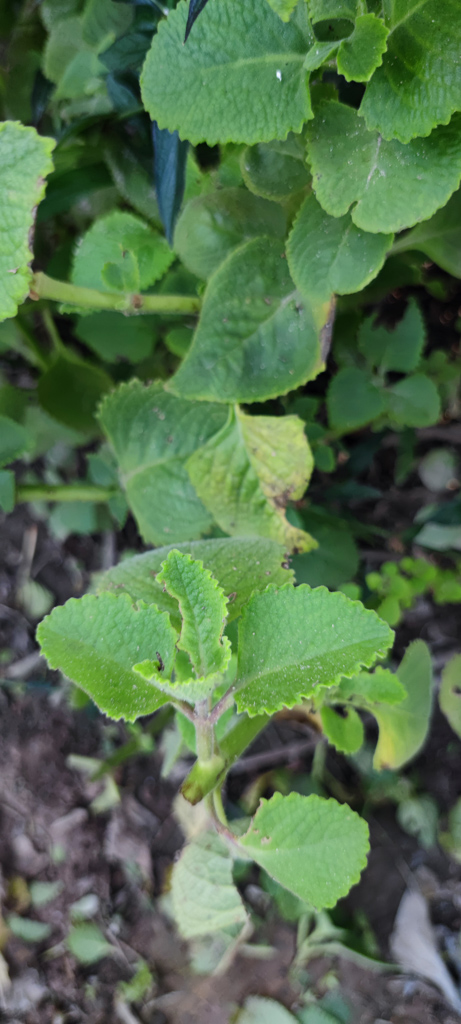Pepper yellow leaf: (181, 408, 336, 550)
